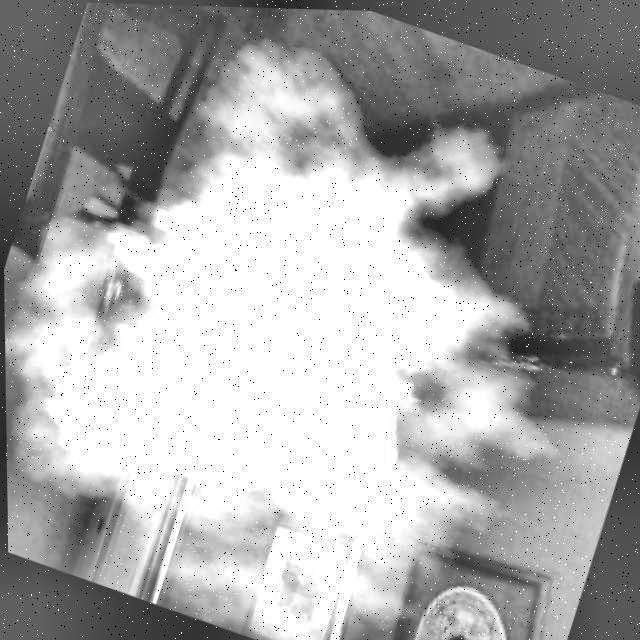Smoke: (3, 2, 640, 640)
